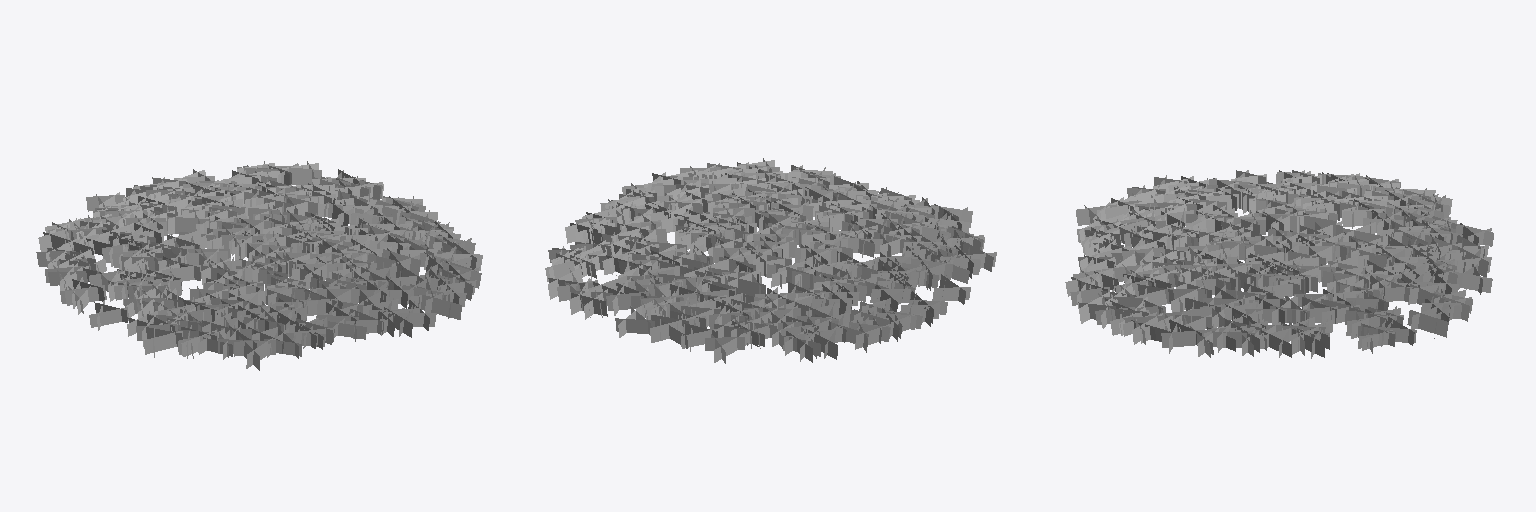
The model's file is sm_grass_terrace3x.OBJ.
3 renders of one model, left to right at view 1: azimuth 30°, elevation 25°; view 2: azimuth 150°, elevation 25°; view 3: azimuth 270°, elevation 25°, orthographic.
Parts seen in each view (by area): view 1: ZBrushPolyMesh3D; view 2: ZBrushPolyMesh3D; view 3: ZBrushPolyMesh3D.
Boxes of the visible parts, x1=… form: ZBrushPolyMesh3D: x1=36, y1=161, x2=482, y2=370; ZBrushPolyMesh3D: x1=545, y1=158, x2=996, y2=363; ZBrushPolyMesh3D: x1=1065, y1=170, x2=1493, y2=358.
Bounding box in the file's own units: 2.94 × 0.2704 × 2.99.